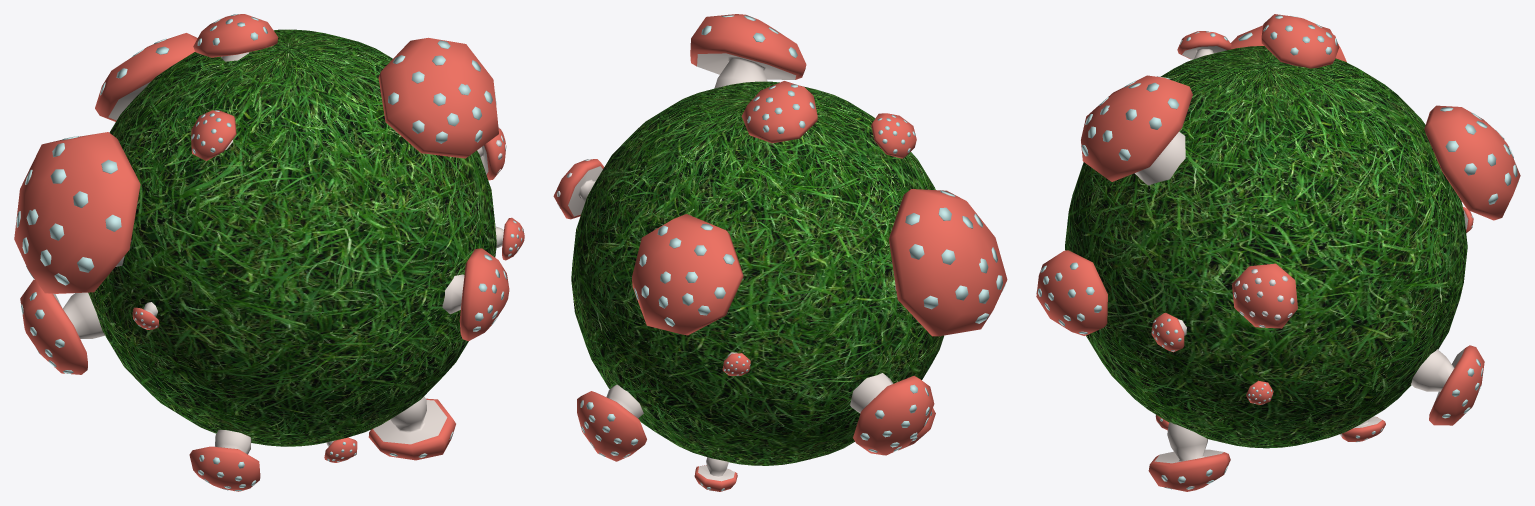
The model's file is happy_palent_with_grass_baked.fbx.
3 renders of one model, left to right at view 1: azimuth 30°, elevation 25°; view 2: azimuth 150°, elevation 25°; view 3: azimuth 270°, elevation 25°, orthographic. The views are drawn at different scales.
Visible parts, largest first — view 1: planet happy, Mushroom.022, Mushroom.020, Mushroom.029, Mushroom.031, Mushroom.024, Mushroom.002, Mushroom.032, Mushroom.021, glow mushroom 022, Mushroom.023, glow mushroom 020 (+3 smaller); view 2: planet happy, Mushroom.022, Mushroom.002, Mushroom.020, Mushroom.029, Mushroom.027, Mushroom.021, Mushroom.019, glow mushroom 022, Mushroom.023, glow mushroom 002, Mushroom.030 (+3 smaller); view 3: planet happy, Mushroom.020, Mushroom.002, Mushroom.024, Mushroom.027, Mushroom.031, Mushroom.019, Mushroom.021, Mushroom.023, glow mushroom 020, Mushroom.025, glow mushroom 002 (+3 smaller).
Boxes of the visible parts, left/top/right/bottom form: planet happy: left=88, top=29, right=496, bottom=446; Mushroom.022: left=14, top=132, right=140, bottom=293; Mushroom.020: left=378, top=37, right=498, bottom=158; Mushroom.029: left=20, top=279, right=104, bottom=374; Mushroom.031: left=368, top=396, right=455, bottom=460; Mushroom.024: left=442, top=248, right=509, bottom=341; Mushroom.002: left=95, top=33, right=197, bottom=121; Mushroom.032: left=189, top=429, right=260, bottom=491; Mushroom.021: left=193, top=14, right=278, bottom=61; glow mushroom 022: left=16, top=136, right=121, bottom=285; Mushroom.023: left=191, top=110, right=236, bottom=160; glow mushroom 020: left=388, top=40, right=496, bottom=143; planet happy: left=571, top=81, right=943, bottom=465; Mushroom.022: left=889, top=189, right=1007, bottom=336; Mushroom.002: left=632, top=214, right=743, bottom=335; Mushroom.020: left=690, top=14, right=806, bottom=88; Mushroom.029: left=850, top=373, right=934, bottom=455; Mushroom.027: left=577, top=384, right=646, bottom=461; Mushroom.021: left=741, top=81, right=817, bottom=143; Mushroom.019: left=553, top=159, right=604, bottom=219; glow mushroom 022: left=905, top=190, right=1005, bottom=323; Mushroom.023: left=871, top=113, right=916, bottom=158; glow mushroom 002: left=634, top=224, right=734, bottom=326; Mushroom.030: left=694, top=457, right=737, bottom=491; planet happy: left=1065, top=46, right=1467, bottom=448; Mushroom.020: left=1081, top=75, right=1192, bottom=185; Mushroom.002: left=1424, top=105, right=1520, bottom=220; Mushroom.024: left=1036, top=250, right=1107, bottom=335; Mushroom.027: left=1411, top=345, right=1484, bottom=425; Mushroom.031: left=1148, top=422, right=1230, bottom=491; Mushroom.019: left=1232, top=263, right=1297, bottom=328; Mushroom.021: left=1261, top=14, right=1339, bottom=68; Mushroom.023: left=1177, top=31, right=1231, bottom=59; glow mushroom 020: left=1081, top=76, right=1179, bottom=160; Mushroom.025: left=1151, top=312, right=1186, bottom=352; glow mushroom 002: left=1440, top=107, right=1518, bottom=204.
Bounding box in the file's own units: 1143 × 988 × 1053.
Materials: 5 (1 with a texture image).
